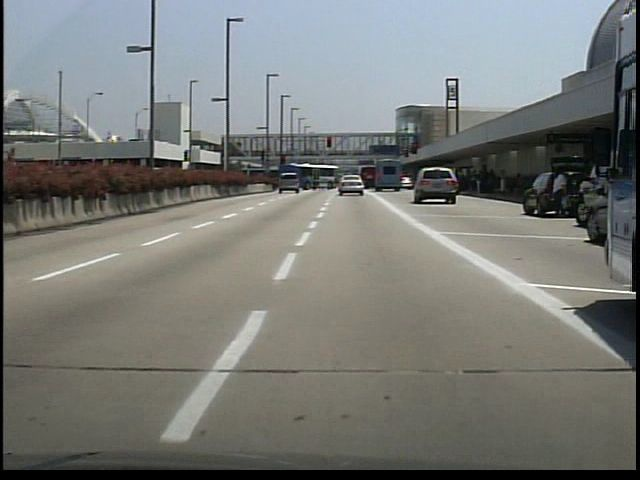person: (548, 168, 568, 217)
